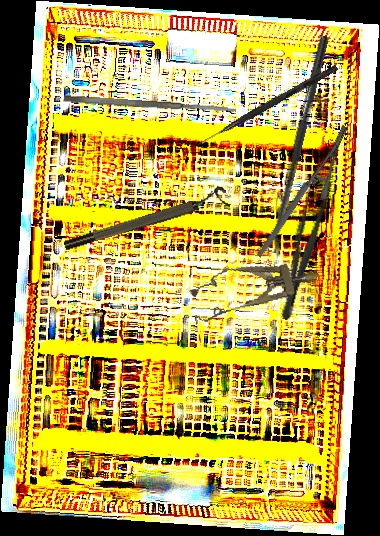Dressing Forceps: (273, 165, 337, 323)
Fixation Ring: (60, 184, 231, 254)
Hook Surgical: (196, 62, 339, 150)
Needle Holder: (225, 123, 378, 259)
Spatula Surgical: (63, 94, 236, 115)
Speculum: (186, 250, 324, 326)
Surgical Spoon: (265, 34, 330, 254)
